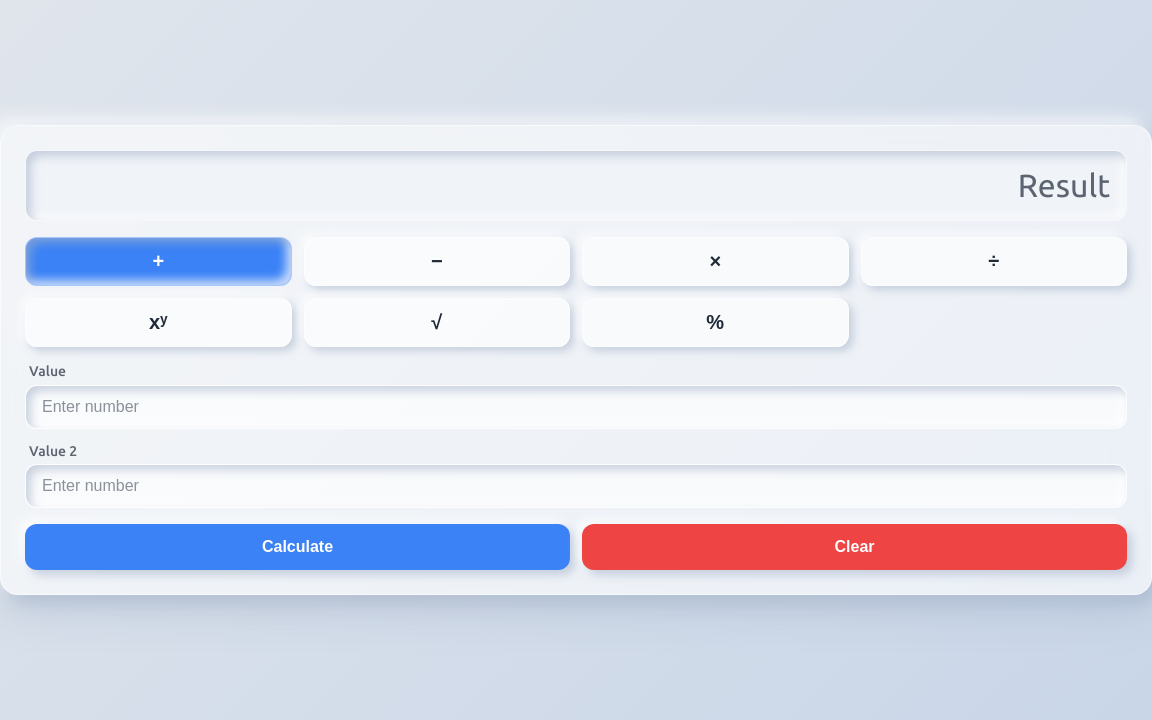
Calculator UI accessibility and layout › enables input b when switching back to a binary operation
Click the button with test id "op-sqrt". click: x=437, y=322
box: [304,298,570,347]
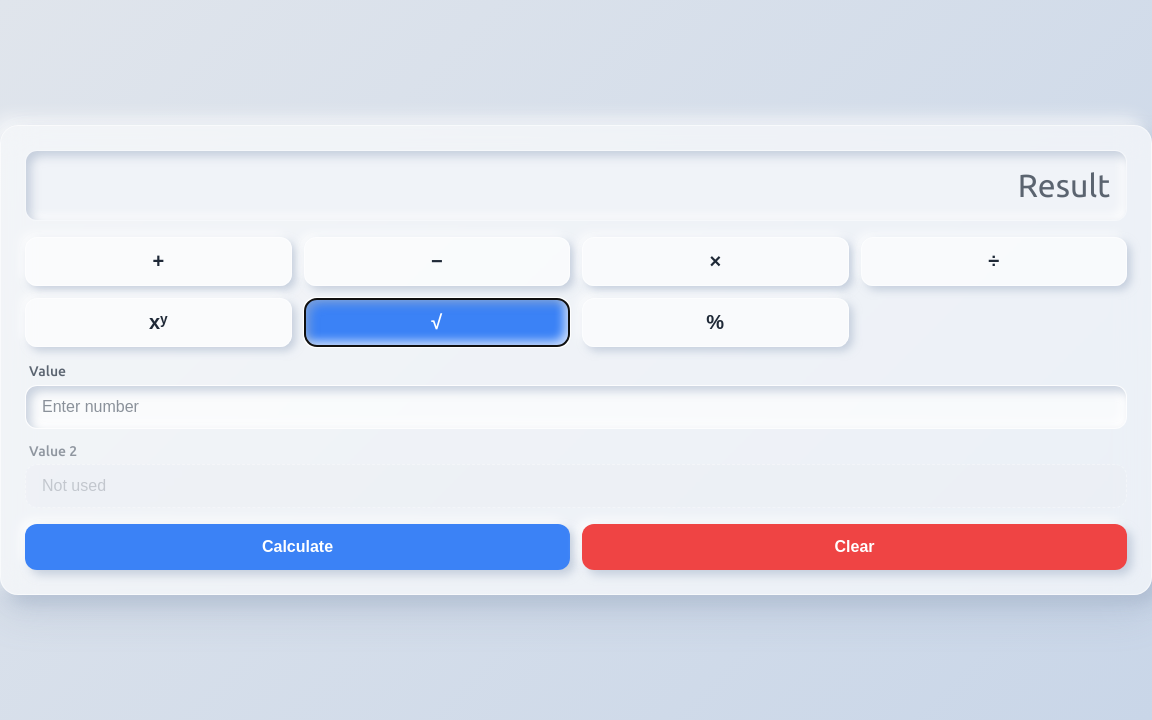
Expected: the field with test id "input-b" is disabled, [25,464,1127,508]
Click the button with test id "op-add". click: x=158, y=261
box: [25,237,292,286]
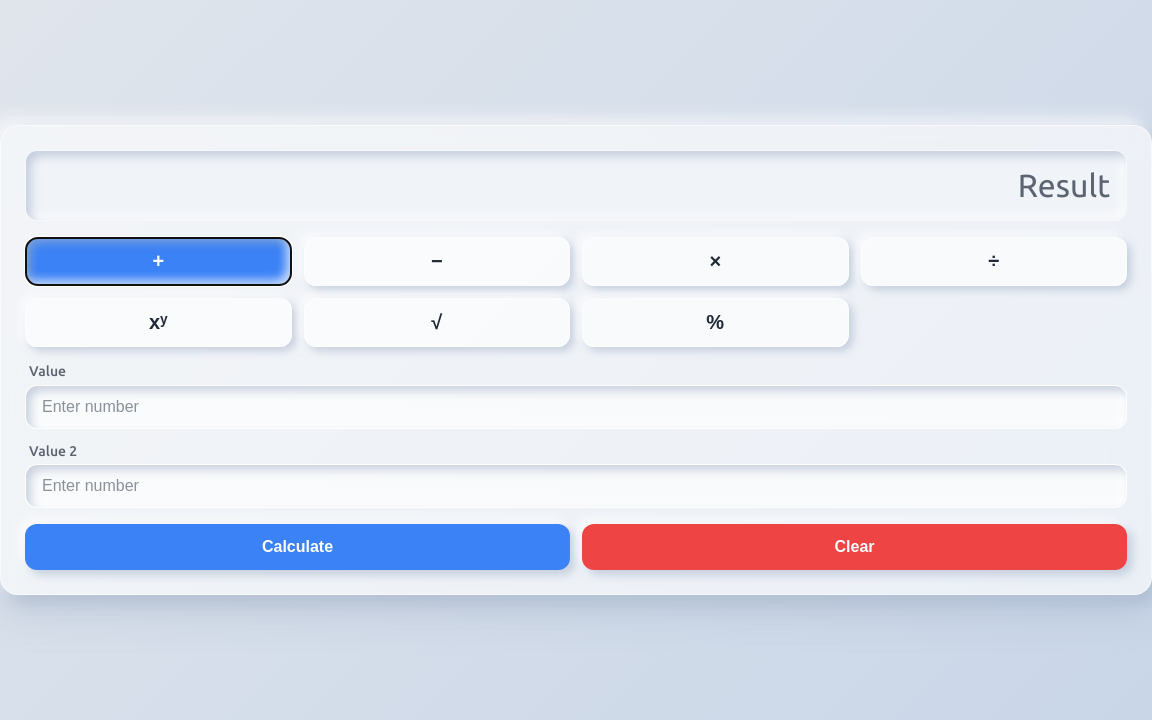
Expected: the field with test id "input-b" is enabled, [25,464,1127,508]
